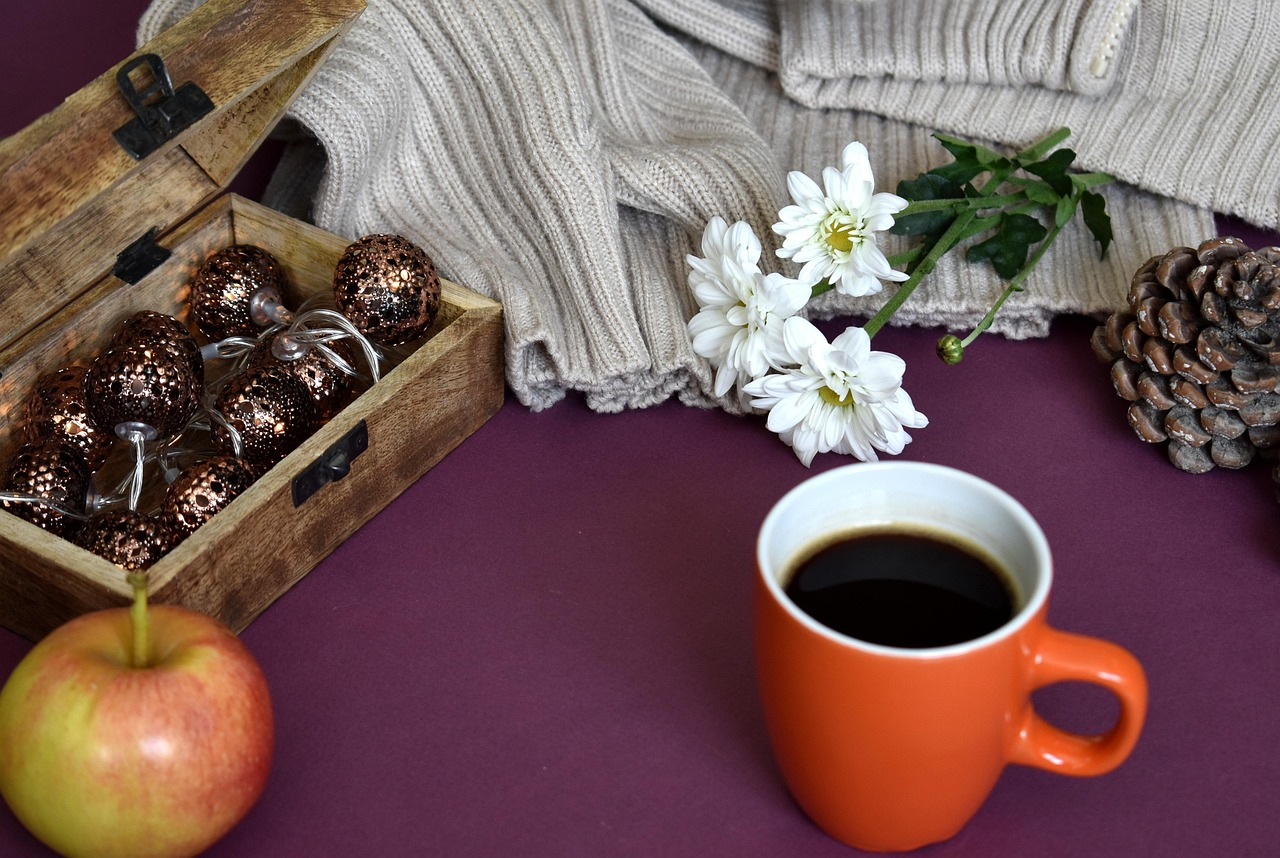mug: (732, 461, 1175, 853)
